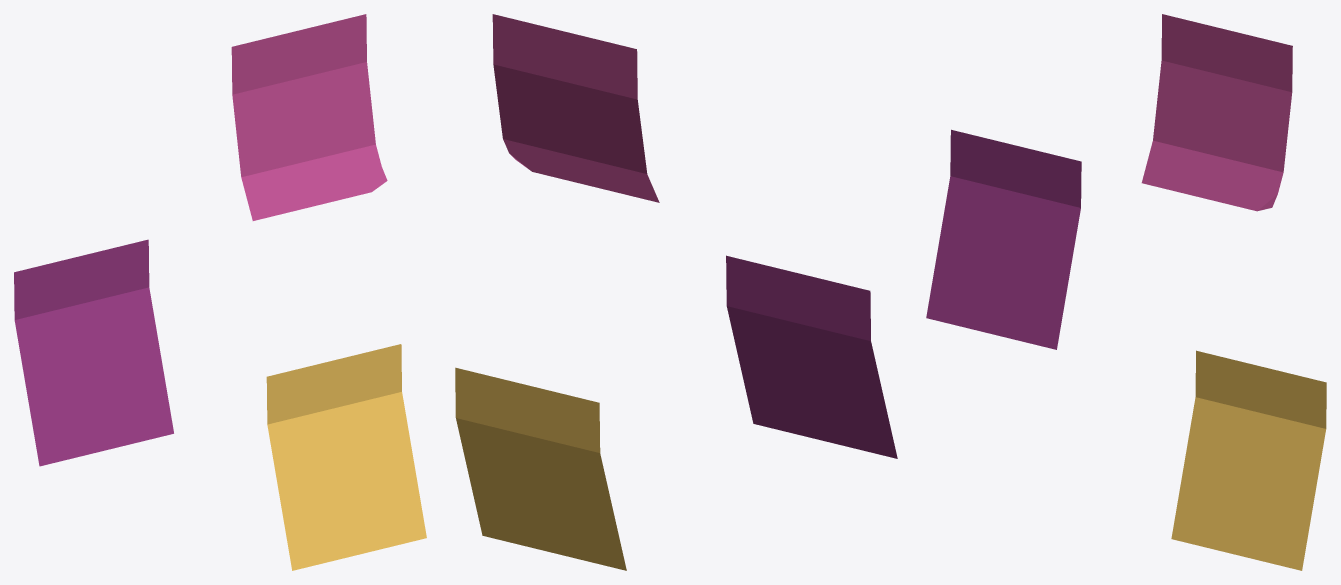
File: Post-it.fbx
3 views of the same model, side by side, from view 1: azimuth 30°, elevation 25°; view 2: azimuth 150°, elevation 25°; view 3: azimuth 330°, elevation 25° (orthographic). The views are drawn at different scales.
Parts seen in each view (by area): view 1: Plane.009; view 2: Plane.009; view 3: Plane.009.
Boxes of the visible parts, <box> form: Plane.009: <box>14,14,426,570</box>; Plane.009: <box>455,14,897,570</box>; Plane.009: <box>926,14,1326,570</box>.
Bounding box in the file's own units: 38.37 × 48.64 × 4.37.
